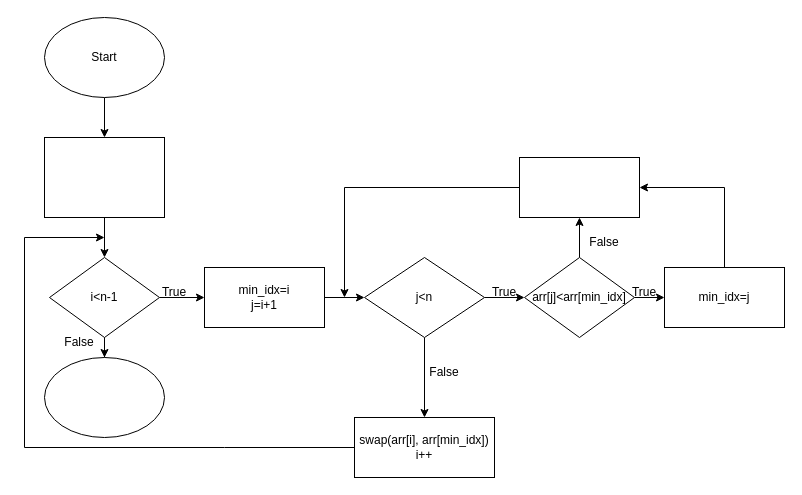
Some shapes in this 802 by 495 pixel diagram are drawn without their labels. Each missing label, with the centre of its shape:
"arr[n] i=0 j min_idx" goes at [104,177].
"End" goes at [104,397].
"j++" goes at [579,187].
